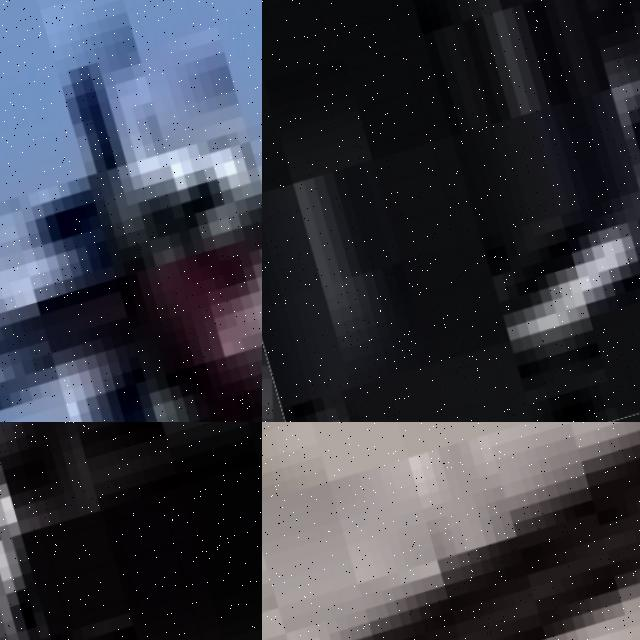drone: (262, 0, 640, 422), (0, 0, 262, 422), (262, 422, 640, 640), (0, 422, 262, 640)
